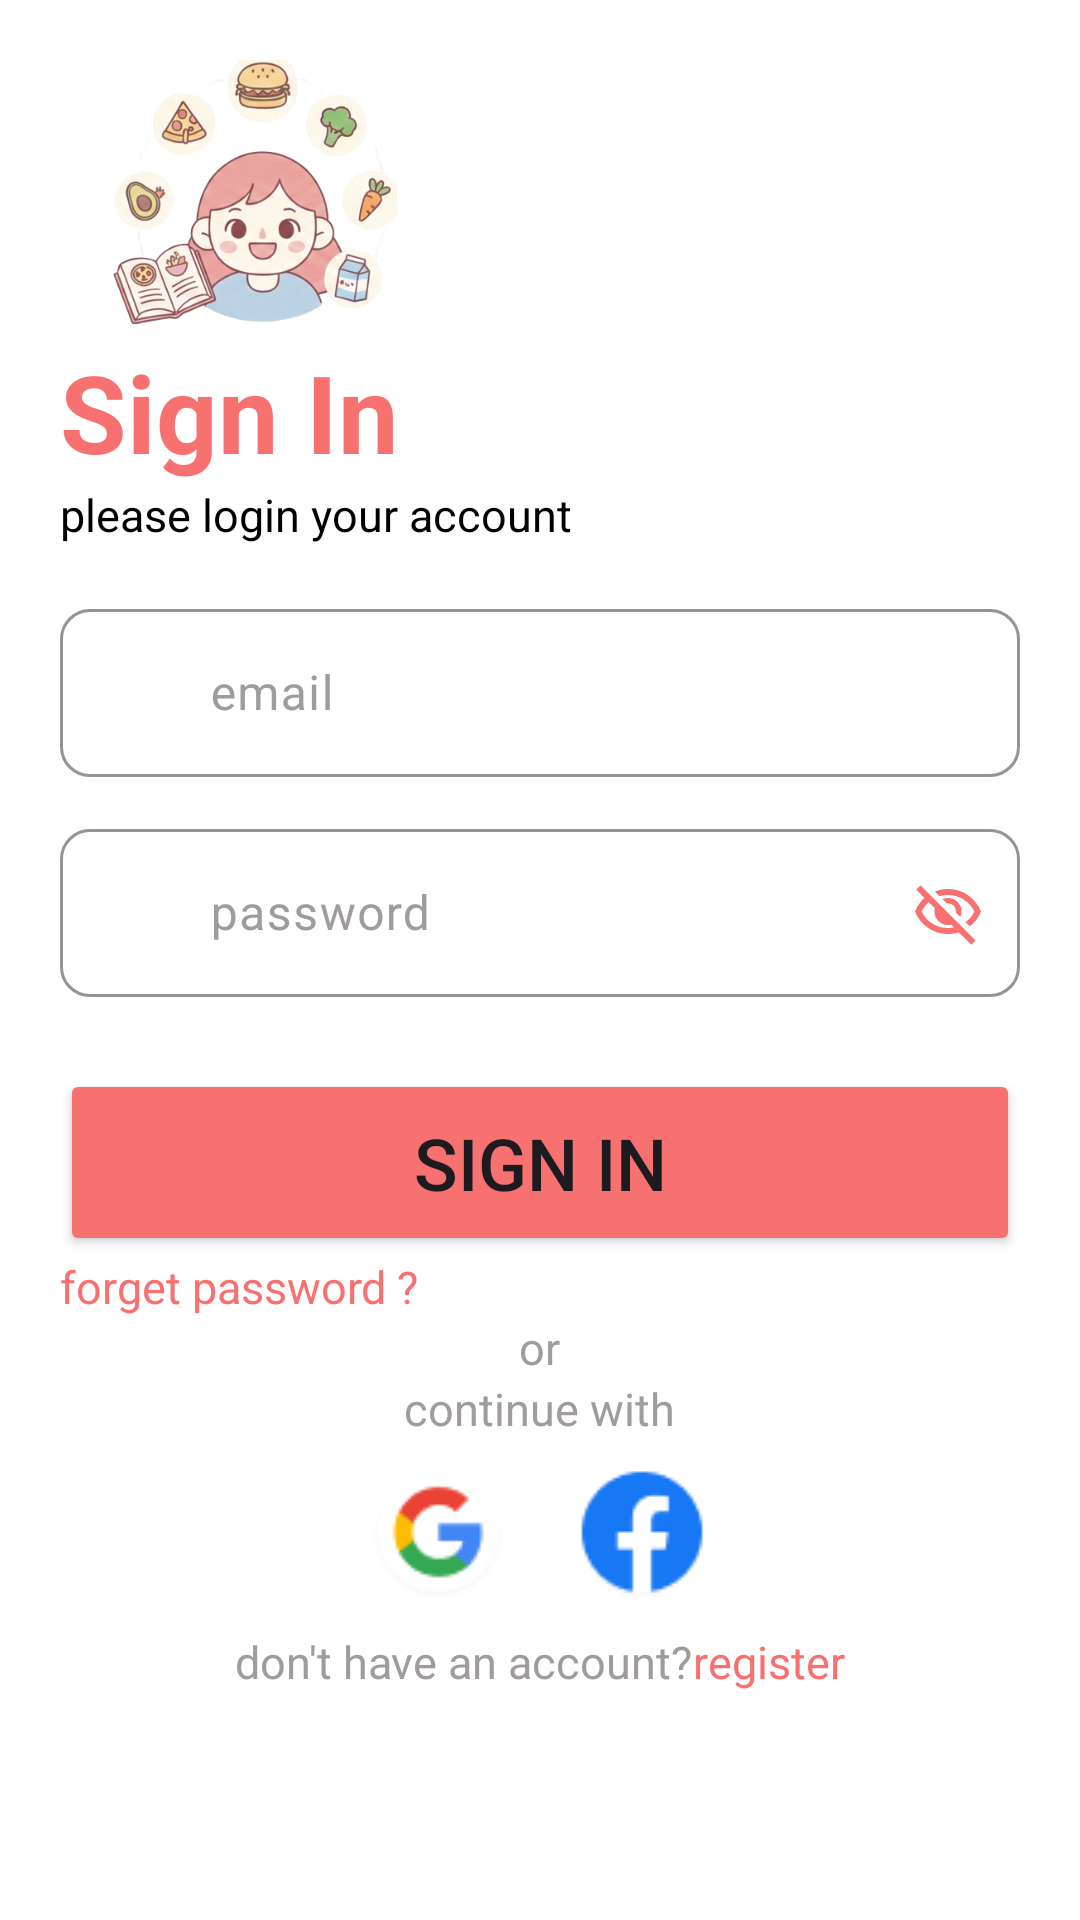

Named icons in this screenshot (1080w x 1920h) and their bounding boxes, (x1, y1, x2, y2):
first onboard: (113, 60, 396, 325)
